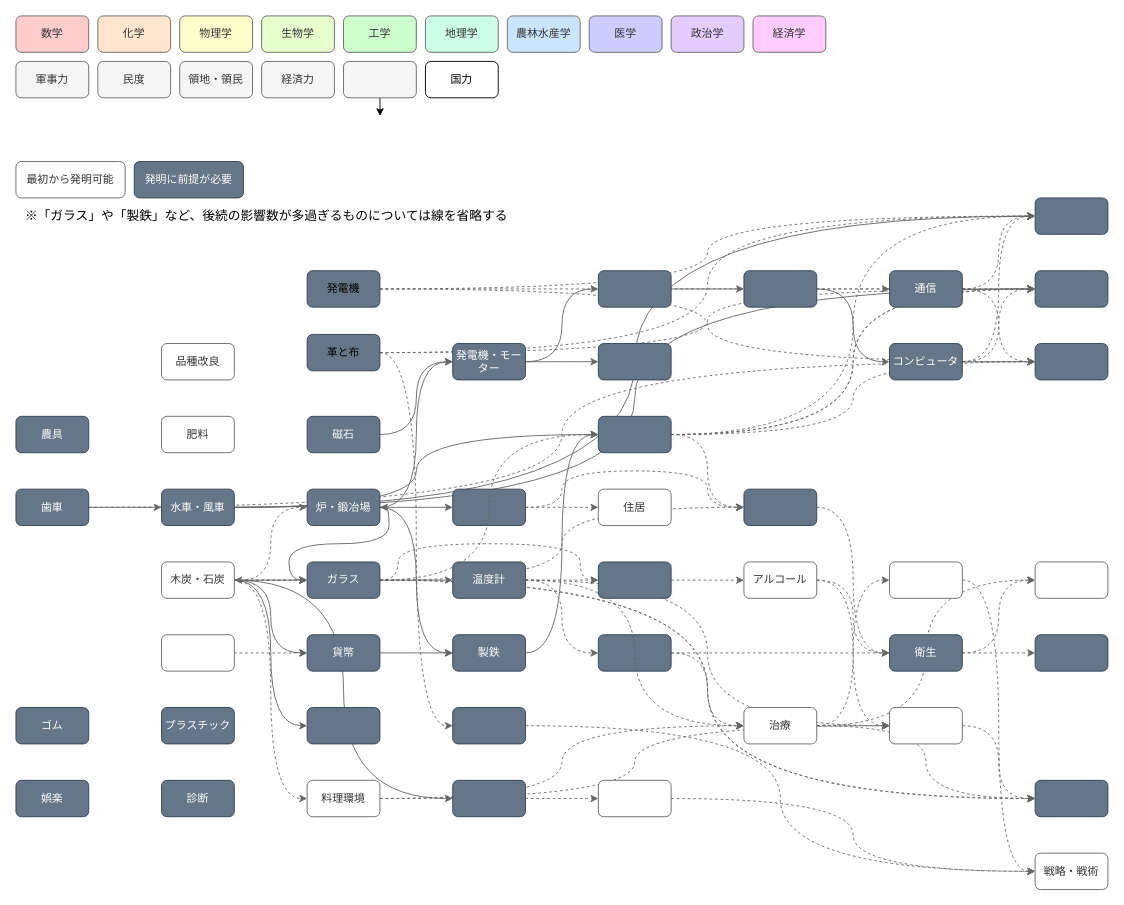
Some shapes in this 1124 by 905 pixel diagram are drawn without their labels. Here are the shapes that lost their labels. From the top down, the centre of each, then its label:
pixel 379 79: 技術力
pixel 1071 215: 空移動
pixel 634 288: 変圧器
pixel 780 288: 電気回路
pixel 1071 288: 海移動
pixel 634 361: 電池
pixel 1071 361: 陸移動
pixel 634 434: 原動機
pixel 489 507: コンクリート
pixel 780 507: 上下水道
pixel 634 579: 蒸留
pixel 925 579: 毒物
pixel 1071 579: 妊娠・出産・避妊
pixel 197 652: 記録媒体
pixel 634 652: 石けん
pixel 1071 652: 疫学
pixel 343 725: 暖房
pixel 489 725: 鞍と鐙
pixel 925 725: 料理
pixel 489 798: 火薬
pixel 634 798: 武器・火器・兵器
pixel 1071 798: 保存食
